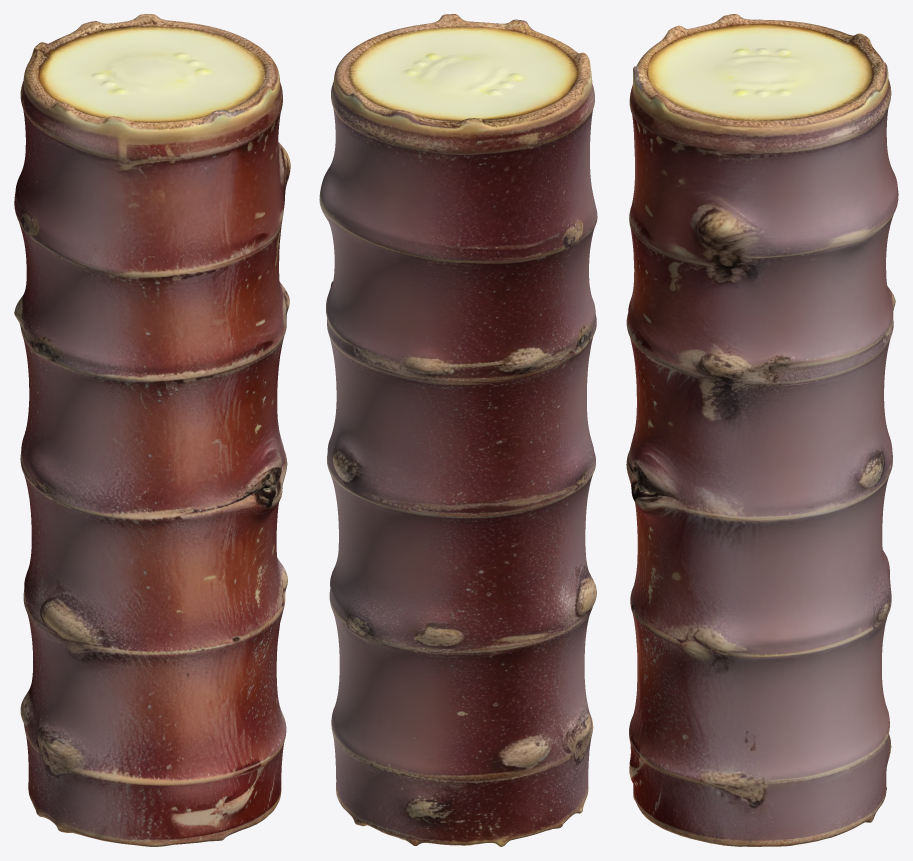
Rendered from liangjiang.glb.
3 renders of one model, left to right at view 1: azimuth 30°, elevation 25°; view 2: azimuth 150°, elevation 25°; view 3: azimuth 270°, elevation 25°, orthographic.
Parts seen in each view (by area): view 1: node_0; view 2: node_0; view 3: node_0.
Boxes of the visible parts, x1,y1,x2,y2 form: node_0: [14, 14, 290, 846]; node_0: [319, 14, 597, 846]; node_0: [626, 14, 898, 846].
Bounding box in the file's own units: 0.3905 × 1.14 × 0.3852.
Materials: 1 (1 with a texture image).
